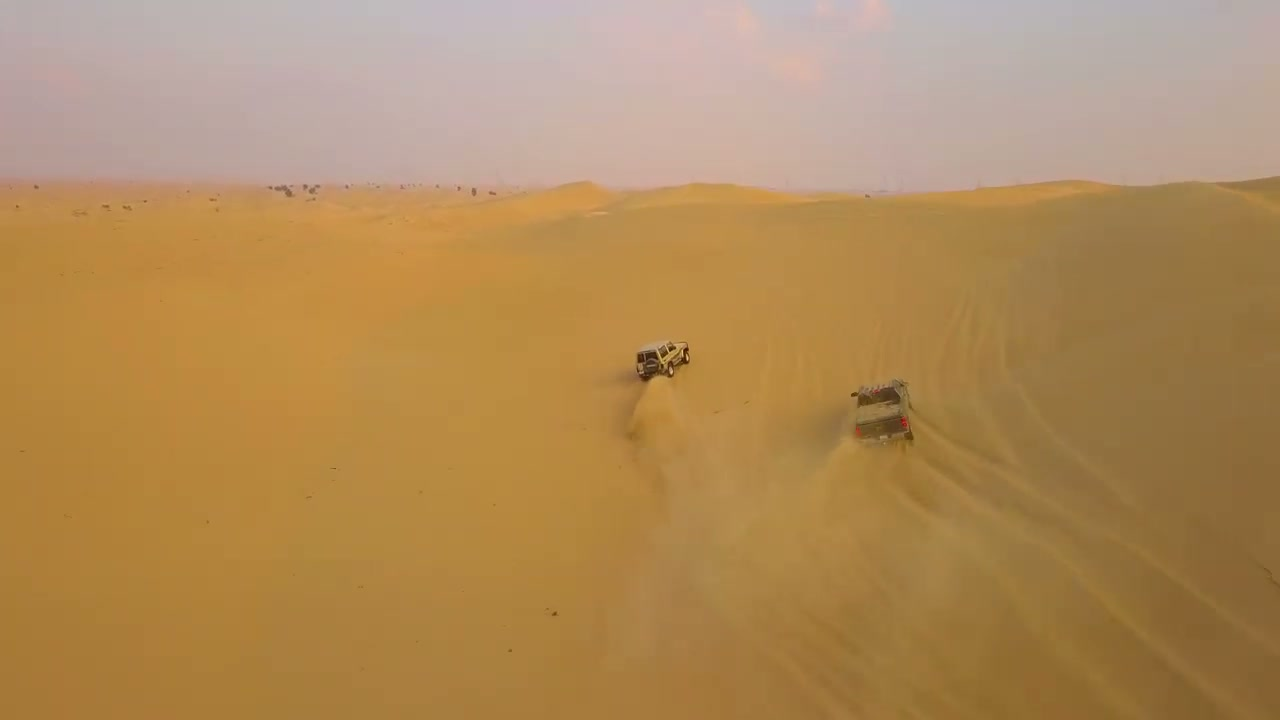vehicle_track: (902, 295, 1270, 719), (758, 593, 990, 719)
